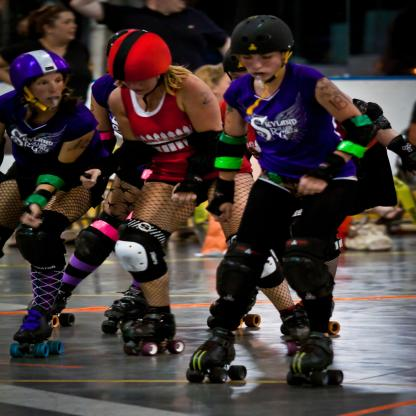Helmet: (229, 15, 295, 114), (3, 42, 76, 120), (104, 28, 172, 82), (222, 49, 248, 81), (107, 29, 131, 57)
